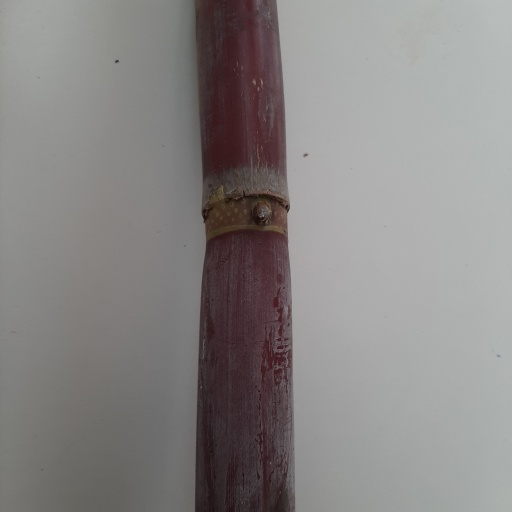Bud: (252, 199, 272, 227)
